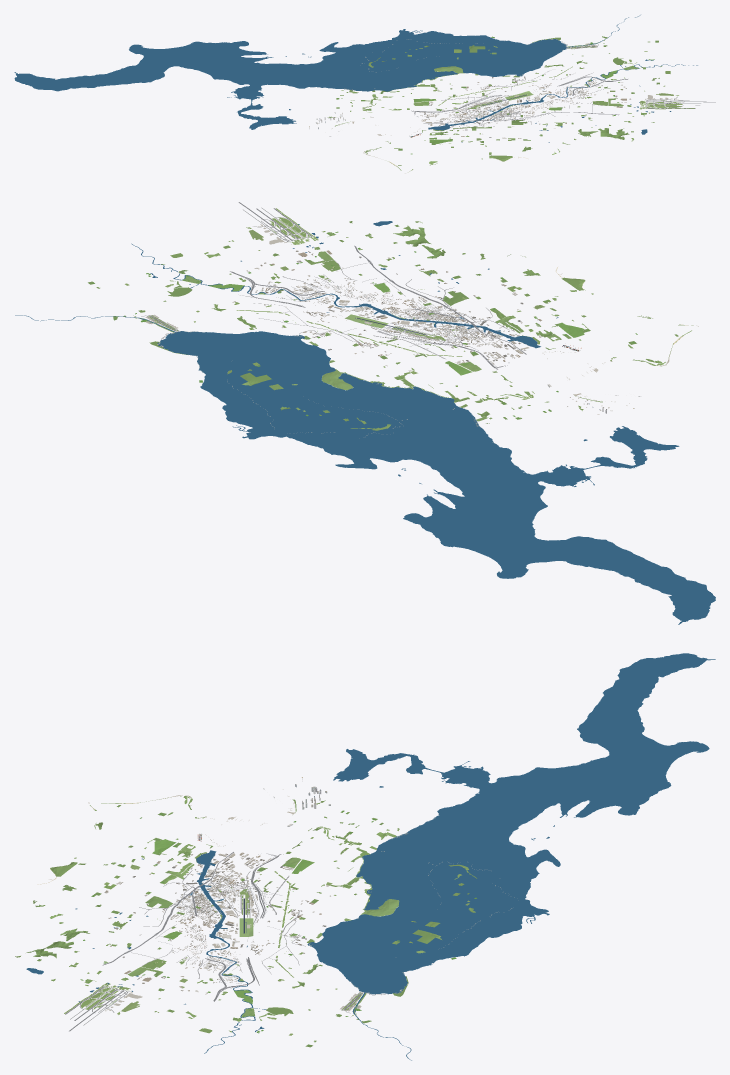
The model's file is land.glb.
The picture shows the model from 3 angles, top to bottom: view 1: azimuth 30°, elevation 25°; view 2: azimuth 150°, elevation 25°; view 3: azimuth 270°, elevation 25°; orthographic projection. The views are drawn at different scales.
Parts seen in each view (by area): view 1: decal-ponds, decal-area-green, buildings, decal-roads, buildings-1, decal-real-taxiways; view 2: decal-ponds, decal-area-green, buildings, decal-roads, buildings-1, decal-real-taxiways; view 3: decal-ponds, decal-area-green, buildings, decal-roads, buildings-1, decal-real-taxiways.
Boxes of the visible parts, left/top/right/bottom form: decal-ponds: left=14, top=15, right=697, bottom=142; decal-area-green: left=327, top=36, right=694, bottom=170; buildings: left=309, top=78, right=555, bottom=138; decal-roads: left=411, top=71, right=627, bottom=127; buildings-1: left=492, top=67, right=630, bottom=123; decal-real-taxiways: left=473, top=41, right=715, bottom=108; decal-ponds: left=15, top=221, right=715, bottom=624; decal-area-green: left=88, top=208, right=693, bottom=430; buildings: left=330, top=271, right=640, bottom=414; decal-roads: left=230, top=245, right=526, bottom=369; buildings-1: left=232, top=250, right=424, bottom=350; decal-real-taxiways: left=141, top=202, right=439, bottom=340; decal-ponds: left=26, top=653, right=715, bottom=1060; decal-area-green: left=15, top=796, right=476, bottom=1047; buildings: left=104, top=777, right=330, bottom=926; decal-roads: left=102, top=852, right=305, bottom=1001; buildings-1: left=110, top=925, right=326, bottom=994; decal-real-taxiways: left=65, top=891, right=385, bottom=1031.
Bounding box in the file's own units: 105399 × 890 × 76717.
